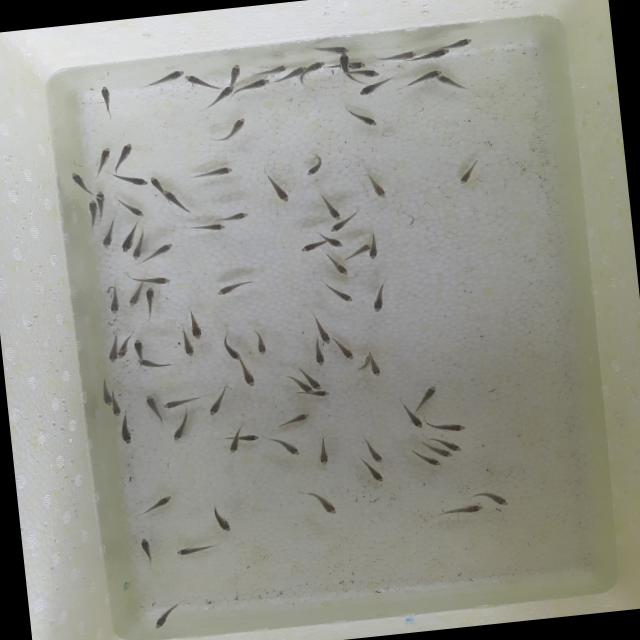fingerling: (449, 154, 485, 188), (364, 278, 395, 316), (205, 504, 237, 537), (150, 600, 184, 630), (424, 416, 474, 436), (144, 66, 189, 88), (310, 490, 342, 520), (190, 164, 242, 182), (163, 186, 193, 216), (310, 312, 335, 347), (88, 144, 117, 174), (118, 192, 148, 220), (146, 491, 177, 518), (439, 501, 488, 518), (213, 278, 254, 298), (218, 332, 244, 363), (266, 176, 292, 206), (144, 239, 176, 263), (276, 408, 314, 428), (341, 240, 374, 263), (210, 82, 237, 110), (104, 282, 125, 318), (362, 436, 387, 466), (346, 107, 380, 129), (316, 192, 342, 220), (332, 337, 360, 363), (220, 118, 250, 142), (176, 328, 200, 358), (142, 389, 163, 423), (251, 326, 273, 358), (186, 310, 208, 342), (327, 212, 362, 232), (402, 399, 423, 432), (118, 408, 136, 446), (365, 171, 387, 202), (116, 223, 138, 254), (206, 387, 228, 418), (431, 71, 465, 91), (114, 139, 138, 167), (326, 282, 355, 305), (182, 70, 212, 92), (133, 272, 171, 289), (162, 393, 200, 410), (484, 485, 509, 510), (168, 414, 190, 442), (222, 427, 244, 455), (274, 436, 302, 458), (354, 82, 388, 100), (240, 77, 272, 96), (400, 69, 440, 84), (302, 155, 329, 177), (127, 232, 148, 260), (95, 222, 116, 250), (314, 434, 331, 468), (142, 284, 160, 316), (362, 462, 386, 486), (310, 42, 350, 56), (112, 172, 147, 188), (328, 254, 352, 277), (417, 48, 451, 64), (133, 356, 169, 371), (116, 334, 135, 362), (234, 364, 256, 388), (280, 66, 309, 84), (136, 535, 156, 561), (172, 544, 215, 556), (367, 230, 383, 262), (102, 336, 119, 366), (95, 189, 110, 222), (210, 210, 251, 222), (317, 231, 344, 249), (417, 384, 438, 407), (98, 82, 114, 111), (308, 343, 326, 368), (225, 62, 246, 83), (378, 50, 418, 61), (70, 170, 90, 192), (442, 34, 473, 48), (434, 435, 459, 452), (109, 386, 123, 416), (99, 376, 111, 409), (356, 66, 384, 80), (262, 62, 290, 76), (86, 198, 100, 226), (419, 452, 442, 469), (429, 446, 455, 461), (188, 223, 226, 233), (238, 430, 264, 444), (126, 286, 144, 306), (294, 376, 312, 396), (294, 239, 319, 253), (306, 372, 324, 391), (306, 388, 333, 400), (148, 172, 164, 192), (354, 354, 374, 370), (304, 60, 326, 74), (368, 356, 382, 378), (334, 51, 351, 68), (133, 336, 147, 356), (344, 60, 368, 70)
